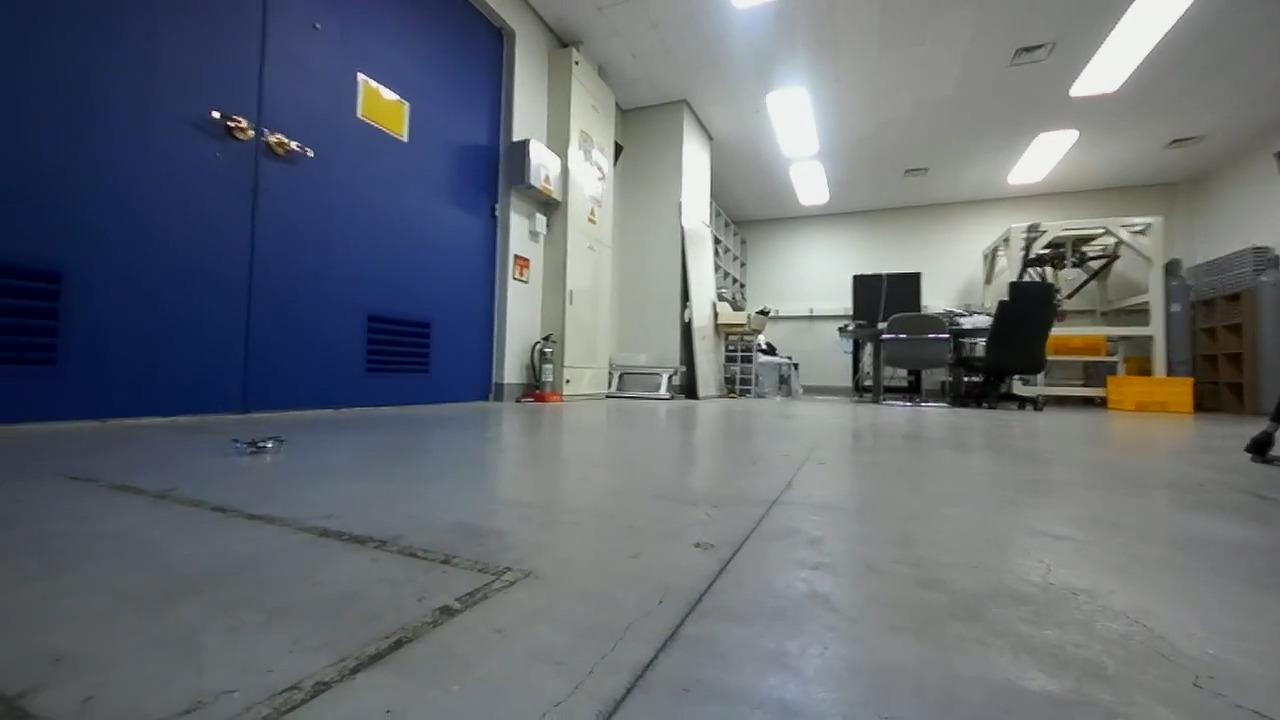crazyflie: (224, 428, 291, 462)
